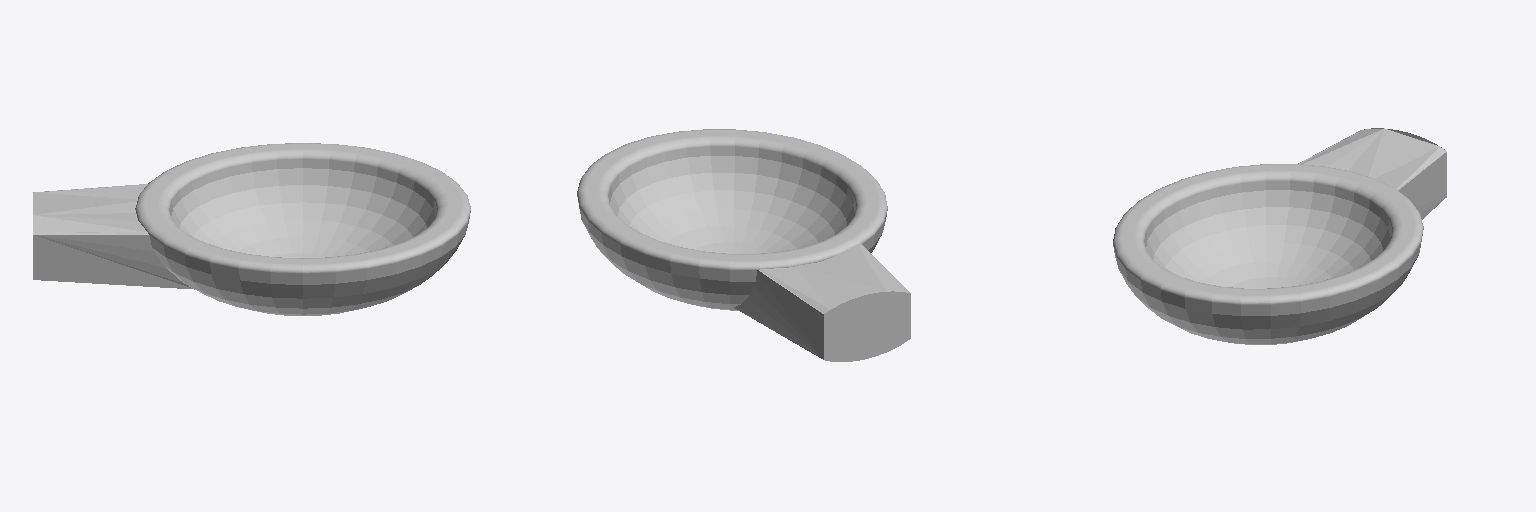
Rendered from castanhola_baixo.obj.
3 views of the same model, side by side, from view 1: azimuth 30°, elevation 25°; view 2: azimuth 150°, elevation 25°; view 3: azimuth 270°, elevation 25° (orthographic).
Parts seen in each view (by area): view 1: Cube; view 2: Cube; view 3: Cube.
Part boxes in pixels (x1,y1,x2,y2): Cube: (33,143,470,315); Cube: (577,129,910,361); Cube: (1113,128,1446,344).
Size of the model in its own units: 2.08 by 0.5 by 1.65.